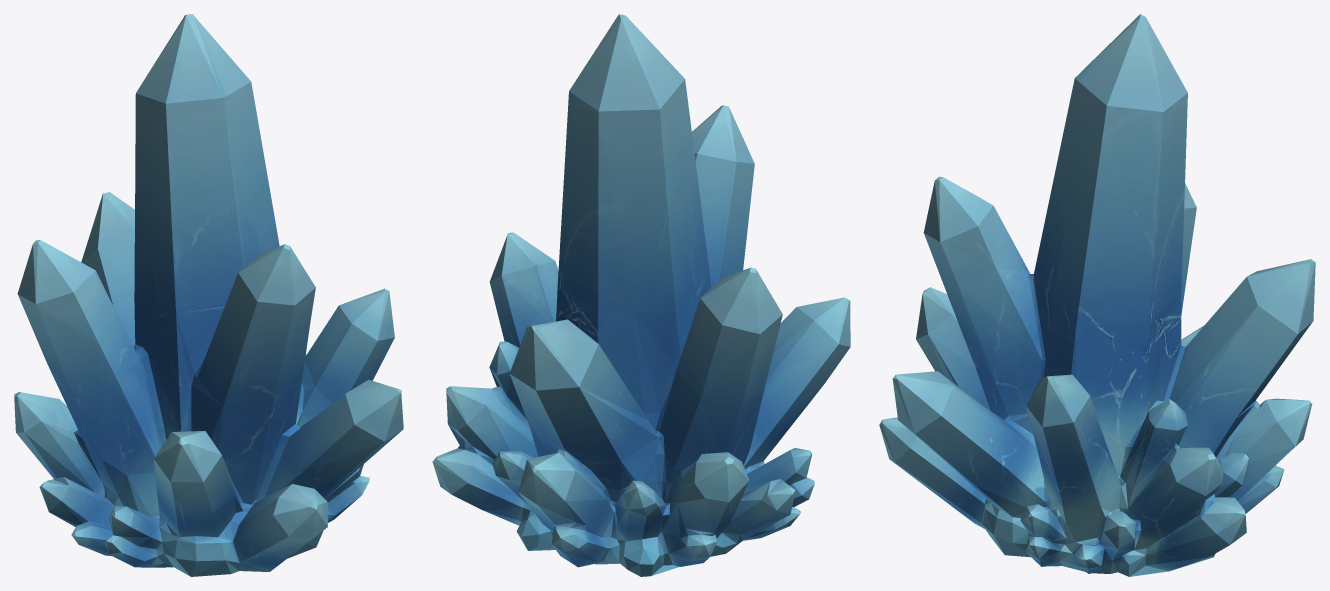
The model's file is minerals_LOD0.glb.
3 views of the same model, side by side, from view 1: azimuth 30°, elevation 25°; view 2: azimuth 150°, elevation 25°; view 3: azimuth 270°, elevation 25° (orthographic). The views are drawn at different scales.
Parts seen in each view (by area): view 1: minerals_LOD0; view 2: minerals_LOD0; view 3: minerals_LOD0.
Part boxes in pixels (x1=…): minerals_LOD0: x1=14, y1=14, x2=403, y2=576; minerals_LOD0: x1=432, y1=14, x2=850, y2=576; minerals_LOD0: x1=879, y1=14, x2=1315, y2=576.
Size of the model in its own units: 0.6594 by 0.9999 by 0.769.
Materials: 1 (1 with a texture image).
